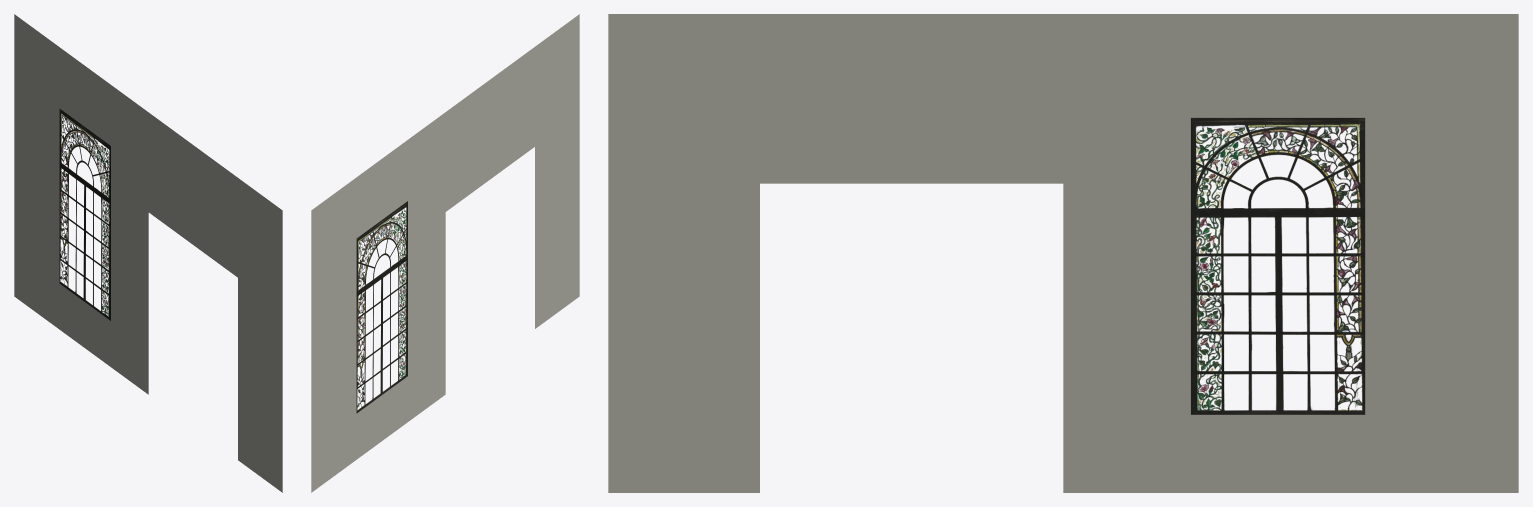
Rendered from A_axis_collider_3.glb.
3 views of the same model, side by side, from view 1: azimuth 30°, elevation 25°; view 2: azimuth 150°, elevation 25°; view 3: azimuth 270°, elevation 25° (orthographic). The views are drawn at different scales.
Parts seen in each view (by area): view 1: A_axis_wall_collider.3; view 2: A_axis_wall_collider.3; view 3: A_axis_wall_collider.3.
Boxes of the visible parts, <box> form: A_axis_wall_collider.3: <box>14,14,282,492</box>; A_axis_wall_collider.3: <box>311,14,579,492</box>; A_axis_wall_collider.3: <box>608,14,1518,492</box>.
Size of the model in its own units: 0 by 5.81 by 10.
1 material, 1 textured.
